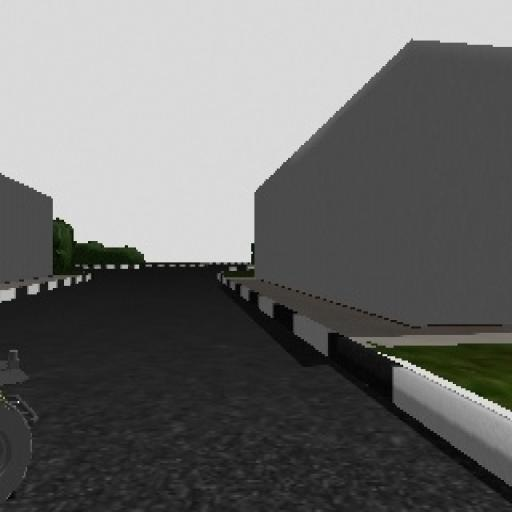huskya200: (0, 341, 41, 511)
